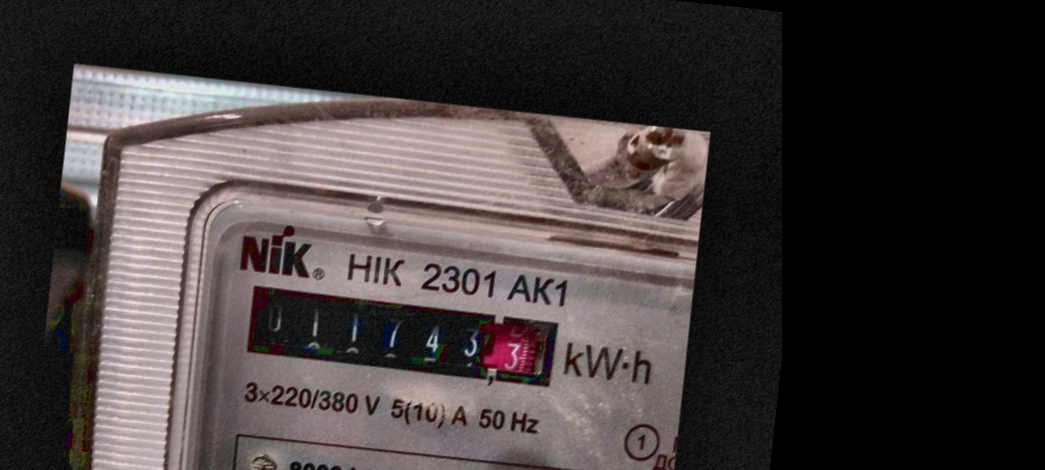0: (261, 298, 284, 336)
1: (344, 308, 362, 343), (307, 304, 321, 338)
3: (457, 323, 479, 360), (500, 340, 521, 374)
4: (420, 319, 441, 355)
7: (381, 314, 403, 350)
screen: (229, 272, 571, 401)
